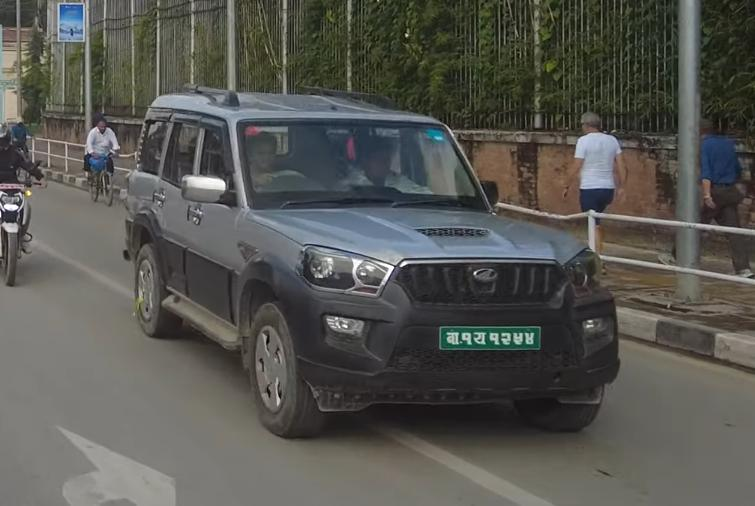SUV: (123, 81, 626, 438)
bike: (0, 160, 43, 288)
